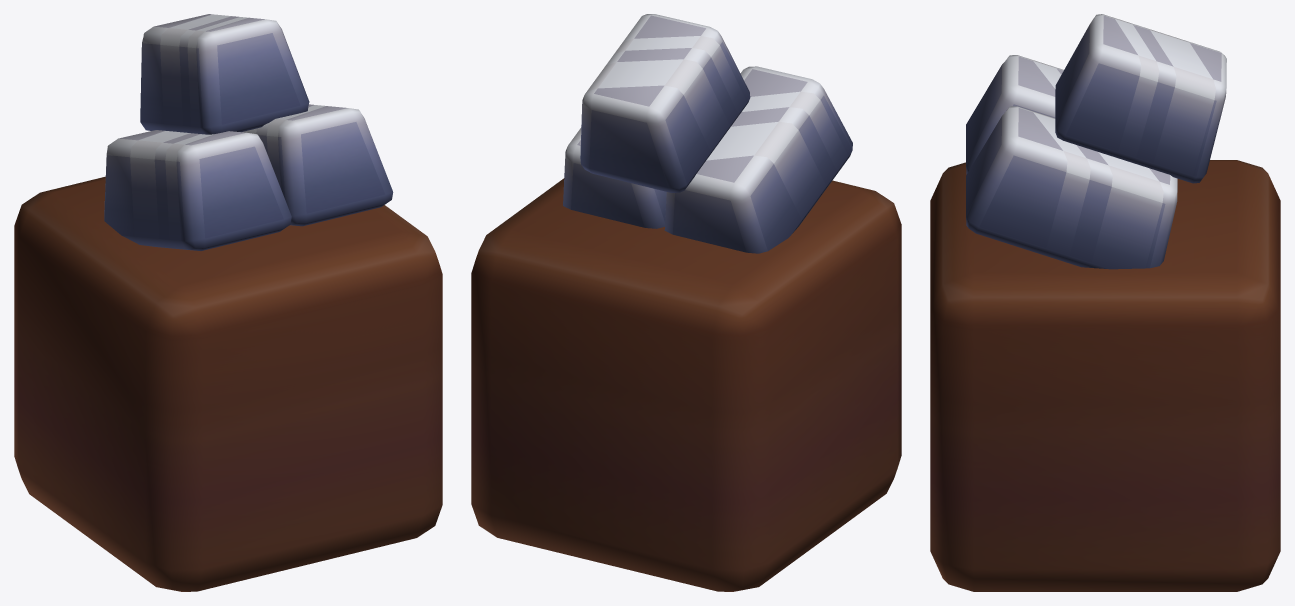
File: block_silver.fbx
The picture shows the model from 3 angles, left to right: view 1: azimuth 30°, elevation 25°; view 2: azimuth 150°, elevation 25°; view 3: azimuth 270°, elevation 25°; orthographic projection. The views are drawn at different scales.
Visible parts, largest first — view 1: block_silver_bar; view 2: block_silver_bar; view 3: block_silver_bar.
Part boxes in pixels (x1=…): block_silver_bar: x1=14, y1=14, x2=442, y2=591; block_silver_bar: x1=471, y1=14, x2=901, y2=591; block_silver_bar: x1=930, y1=14, x2=1280, y2=591.
Size of the model in its own units: 200 by 321 by 200.
